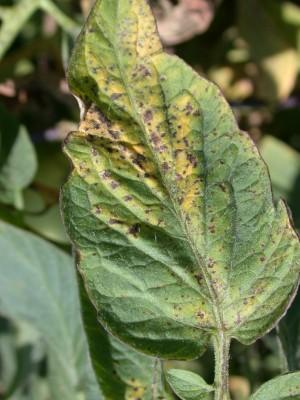Tomato leaf bacterial spot: (62, 1, 294, 374)
